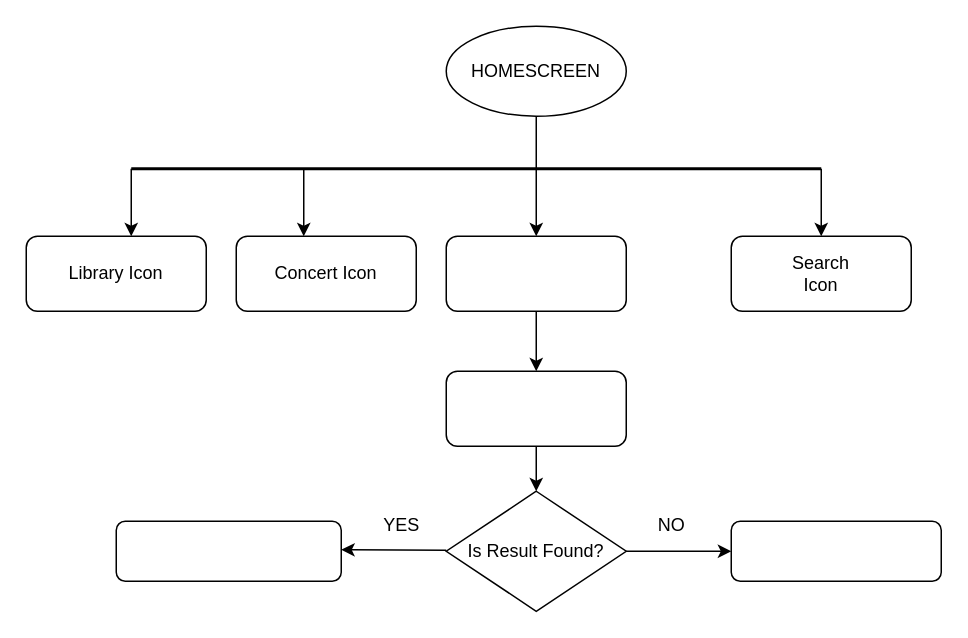
Image size: 968x638. Some labels were removed from this diagram. Each missing label, with the centre of its shape:
Melora Icon: the point at 535,273
Search Page: the point at 535,408
